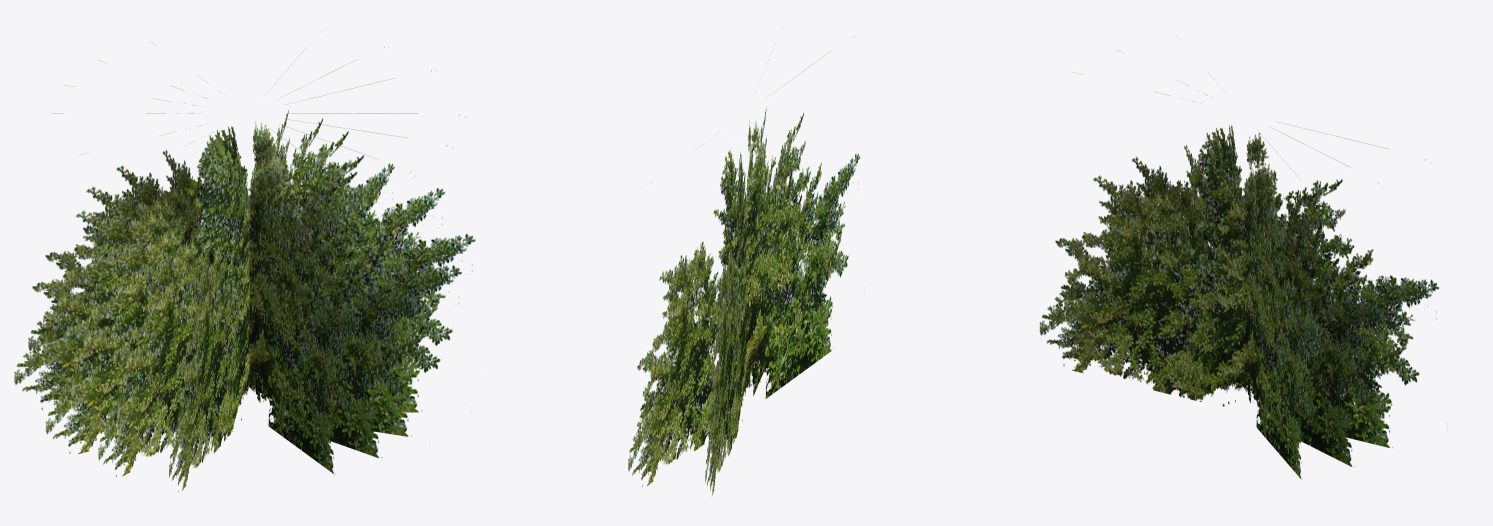
Rendered from shu1.gltf.
3 views of the same model, side by side, from view 1: azimuth 30°, elevation 25°; view 2: azimuth 150°, elevation 25°; view 3: azimuth 270°, elevation 25° (orthographic).
Visible parts, largest first — view 1: guanmu1; view 2: guanmu1; view 3: guanmu1.
Part boxes in pixels (x1,y1,x2,y2): guanmu1: [14, 45, 475, 491]; guanmu1: [628, 53, 860, 495]; guanmu1: [1039, 50, 1439, 478].
Size of the model in its own units: 4.28 by 3 by 4.28.
1 material, 1 textured.
